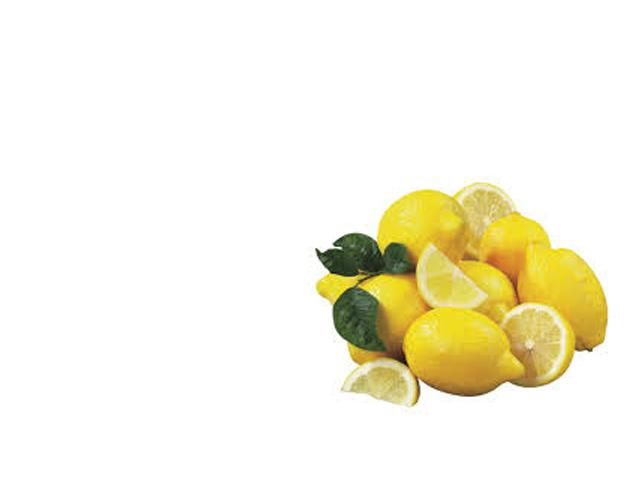lemon: (339, 271, 438, 364)
